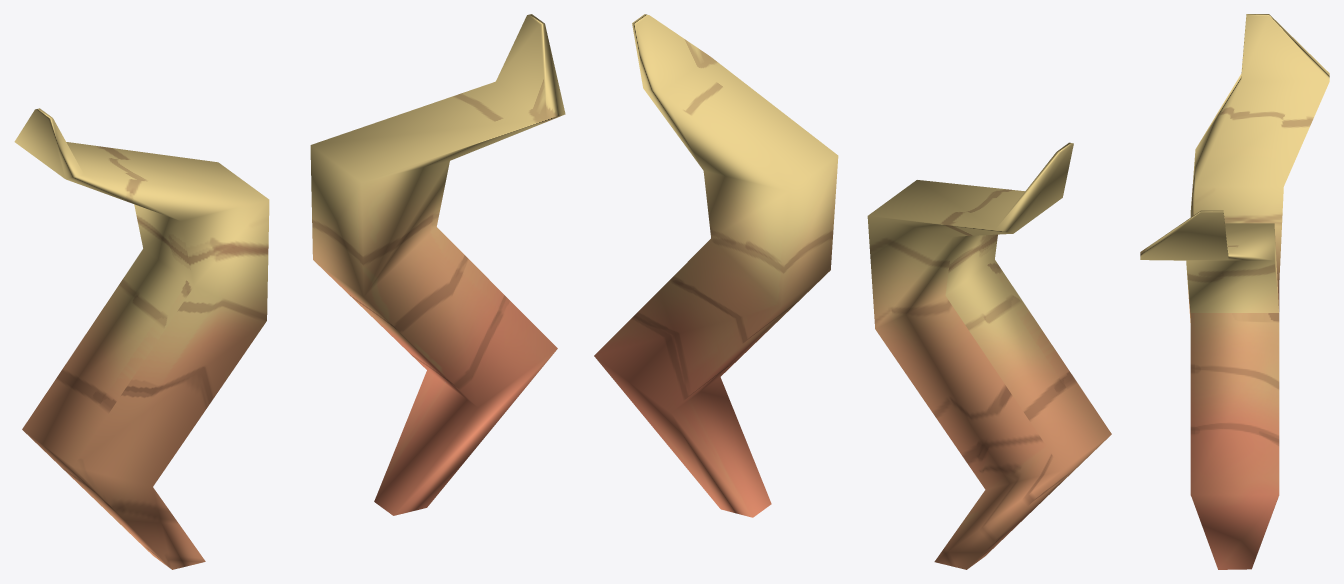
File: Meat_Dear.fbx
The picture shows the model from 3 angles, left to right: view 1: azimuth 30°, elevation 25°; view 2: azimuth 150°, elevation 25°; view 3: azimuth 270°, elevation 25°; orthographic projection. The views are drawn at different scales.
Visible parts, largest first — view 1: MeatDear:pCube1, MeatDear:pCube2; view 2: MeatDear:pCube2, MeatDear:pCube1; view 3: MeatDear:pCube2, MeatDear:pCube1.
Part boxes in pixels (left/top/right/bottom): MeatDear:pCube1: left=14, top=108, right=269, bottom=569; MeatDear:pCube2: left=310, top=14, right=565, bottom=515; MeatDear:pCube2: left=594, top=14, right=838, bottom=517; MeatDear:pCube1: left=867, top=142, right=1111, bottom=569; MeatDear:pCube2: left=1140, top=210, right=1279, bottom=569; MeatDear:pCube1: left=1190, top=14, right=1329, bottom=311.
Size of the model in its own units: 2.24 by 2.05 by 0.8766.
1 material, 1 textured.
